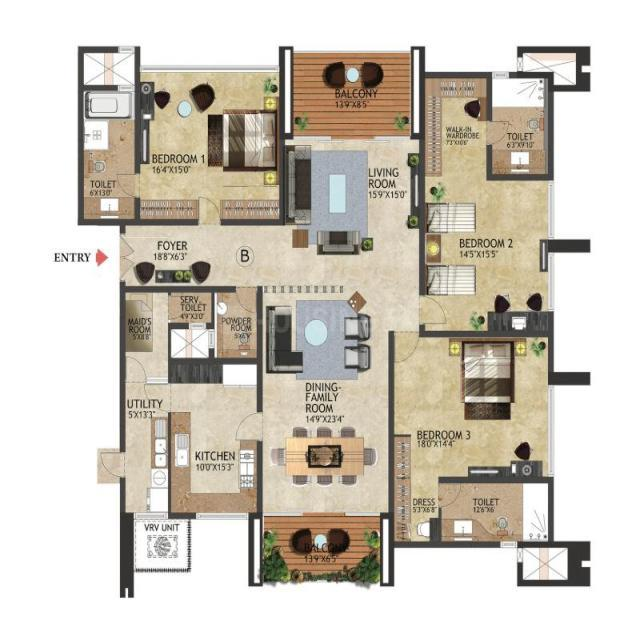Balcony-Sitout: (282, 45, 424, 136), (248, 514, 389, 588)
Bedroom: (387, 331, 555, 482), (422, 180, 555, 337), (214, 285, 264, 362)
Bedroom with Toilet: (78, 47, 280, 223)
Dining: (268, 426, 379, 491)
Enterance-Foyer: (91, 229, 210, 282)
Kitchen: (169, 359, 260, 519)
Living: (279, 137, 424, 266), (264, 285, 390, 390)
Toilet: (77, 47, 139, 227), (395, 478, 555, 547), (488, 73, 551, 181), (167, 291, 214, 358)
Utility: (125, 288, 174, 519)
